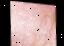plaque psoriasis: (8, 1, 56, 46), (40, 3, 56, 46)
